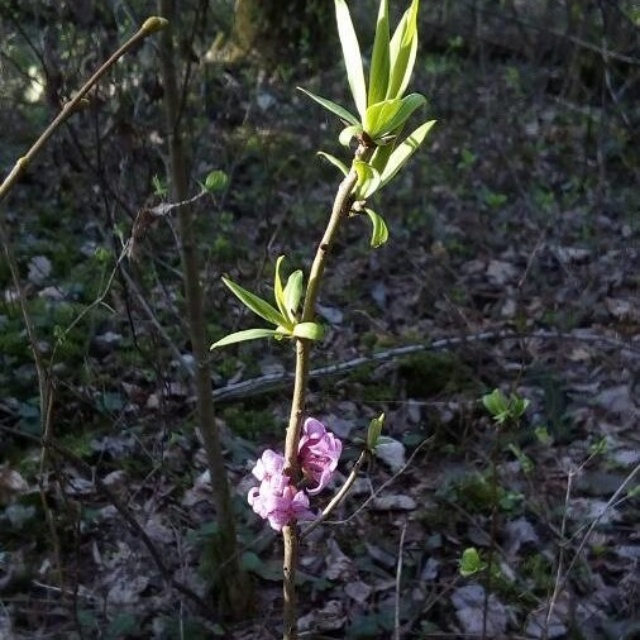obstacle: (244, 34, 434, 573)
